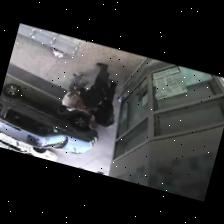person: (77, 62, 110, 111), (89, 80, 116, 128), (59, 73, 88, 113)
